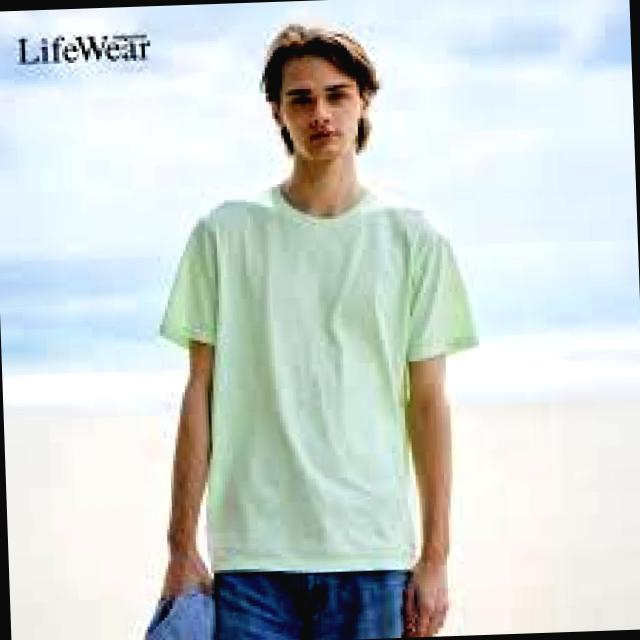face: (272, 55, 368, 160)
lower-wear: (214, 570, 411, 639)
top-wear: (161, 184, 478, 572)
